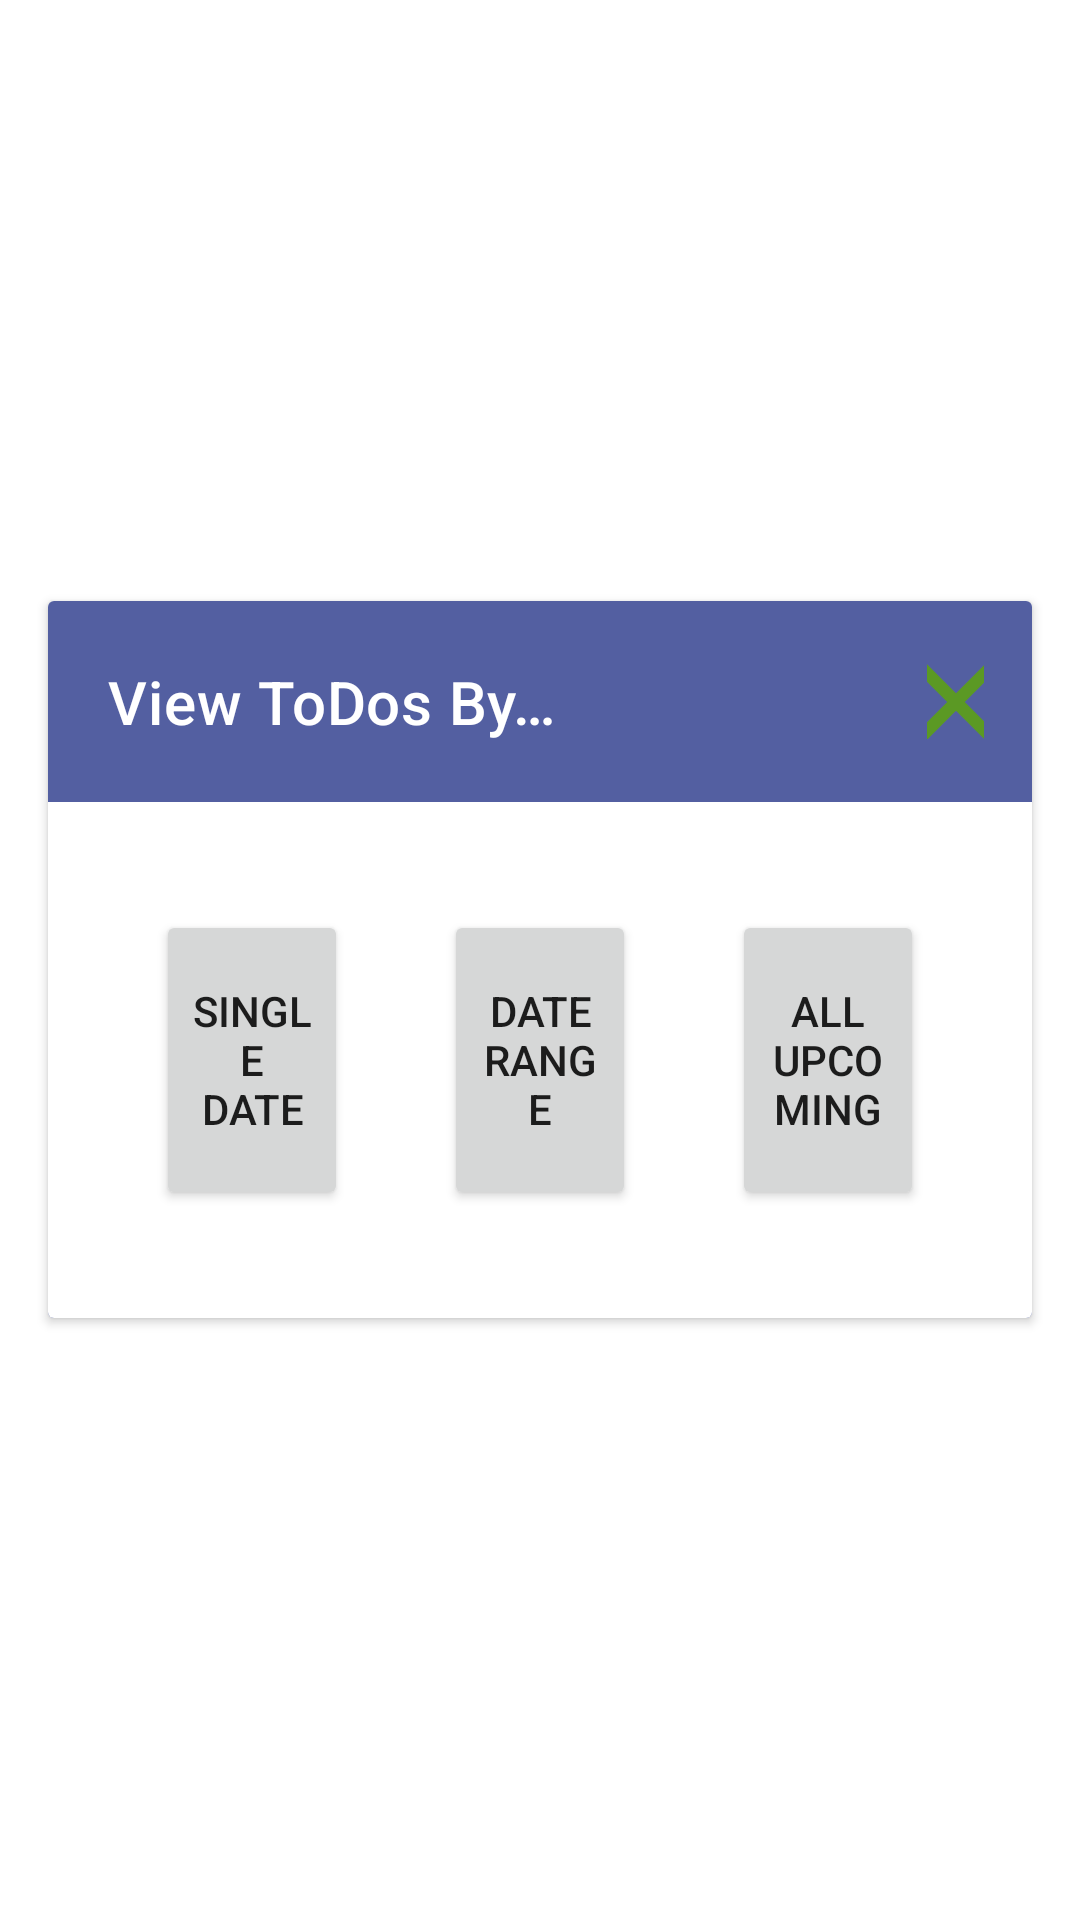

Icons on this 1080 × 1920 Android screen, each with the point to tap as point (x, y):
close: point (955, 701)
